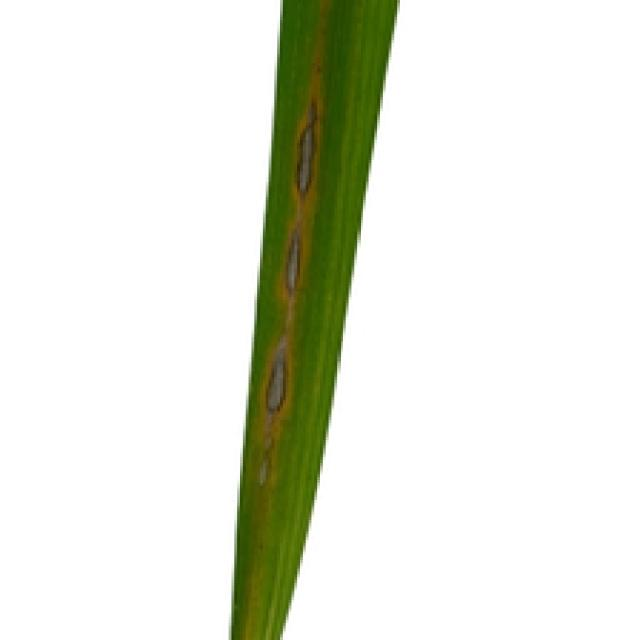Rice___Bacterial_Leaf_Blight: (227, 3, 411, 637)
